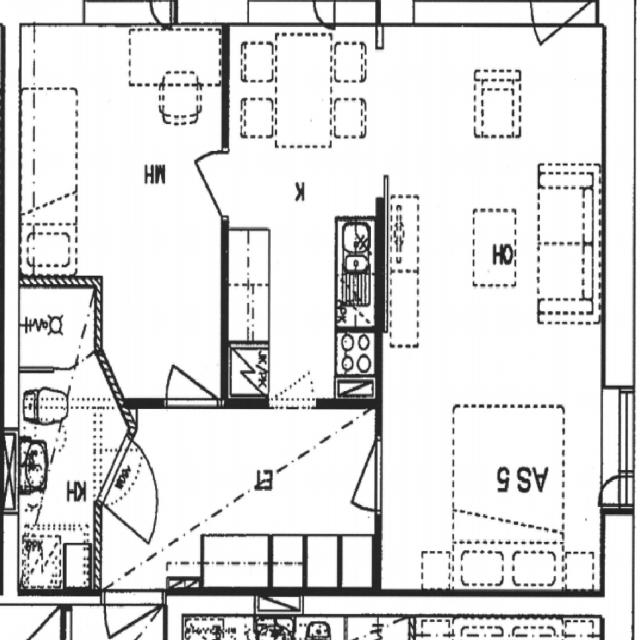door: (96, 434, 180, 545), (322, 439, 381, 512), (166, 329, 217, 409), (172, 152, 229, 217)
